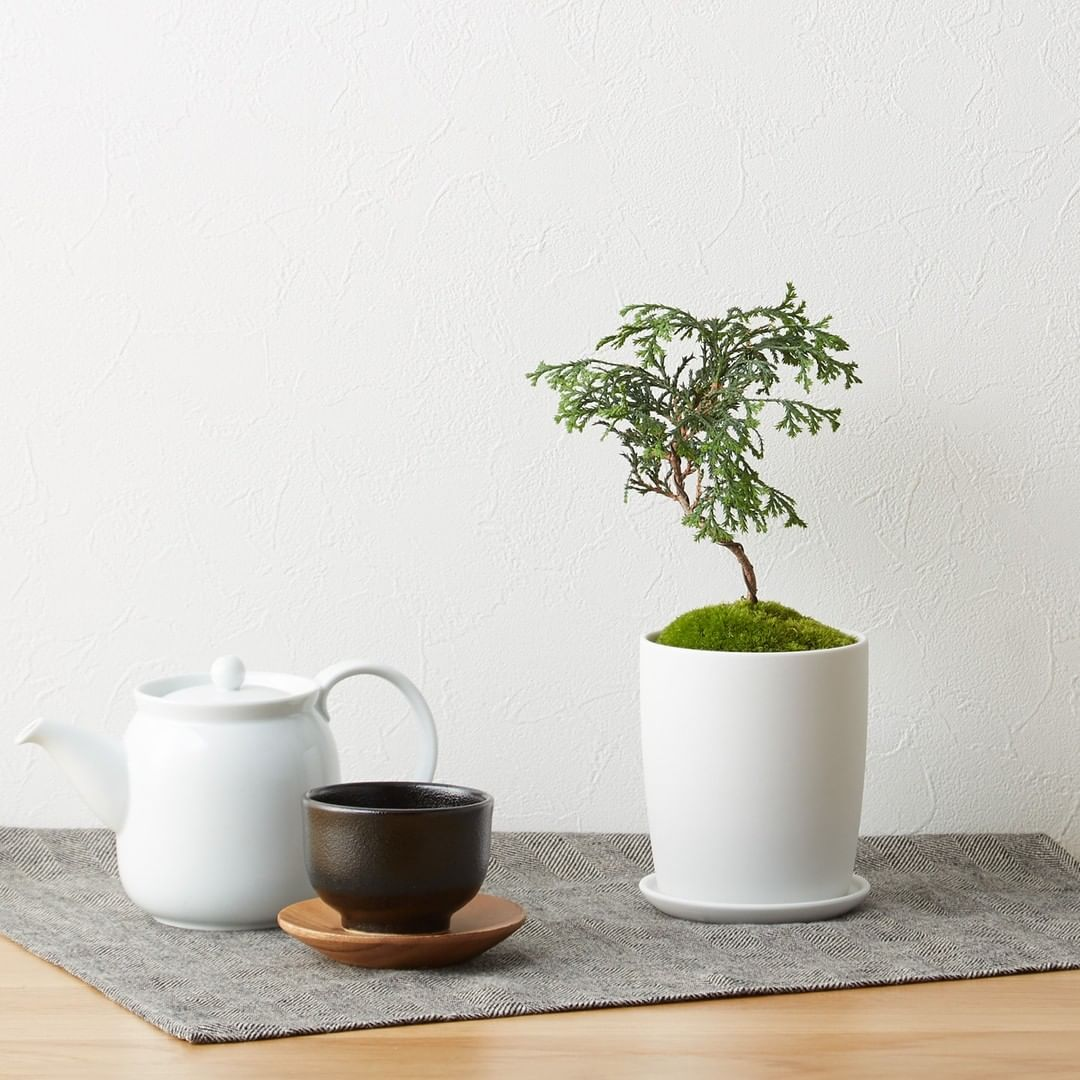人: (525, 295, 862, 554)
